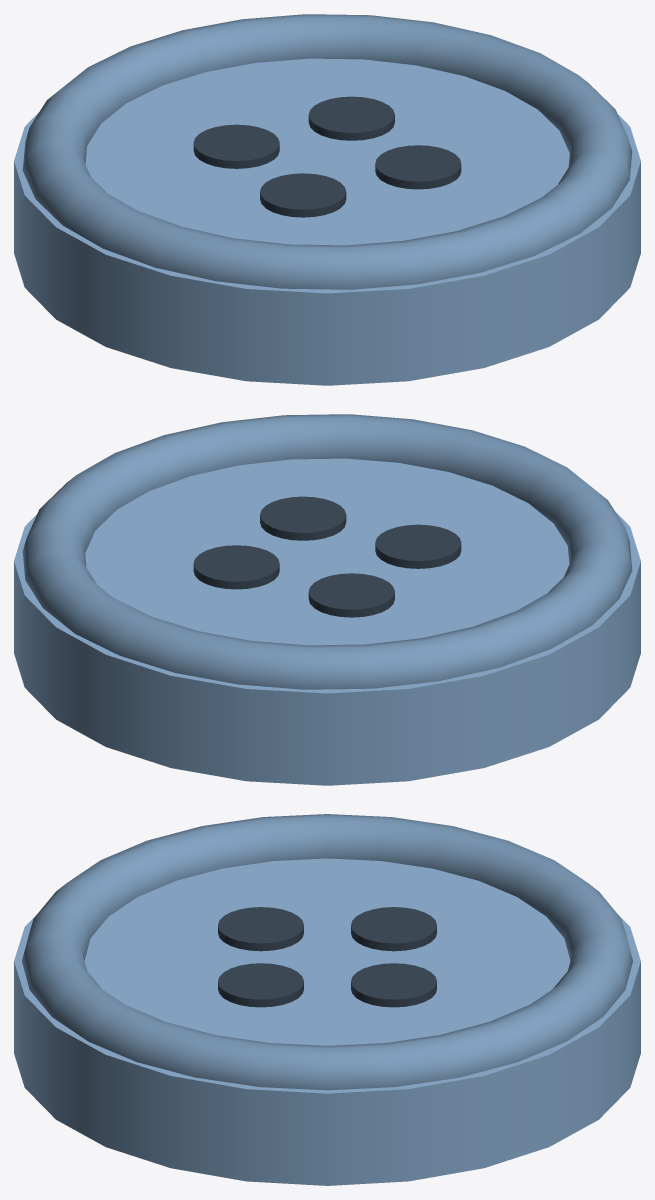
Rendered from obstaculo_boton_gigante.glb.
3 renders of one model, top to bottom at view 1: azimuth 30°, elevation 25°; view 2: azimuth 150°, elevation 25°; view 3: azimuth 270°, elevation 25°, orthographic.
Visible parts, largest first — view 1: Botón gigante, Reborde, Agujero (×4); view 2: Botón gigante, Reborde, Agujero (×4); view 3: Botón gigante, Reborde, Agujero (×4).
Boxes of the visible parts, x1,y1,x2,y2 form: Botón gigante: (14,58,640,385); Reborde: (22,14,632,289); Agujero (×4): (193,96,461,217); Botón gigante: (14,458,640,785); Reborde: (22,414,632,689); Agujero (×4): (193,496,461,617); Botón gigante: (14,858,640,1185); Reborde: (22,814,632,1090); Agujero (×4): (218,907,436,1007).
Bounding box in the file's own units: 0.8 × 0.17 × 0.8.
